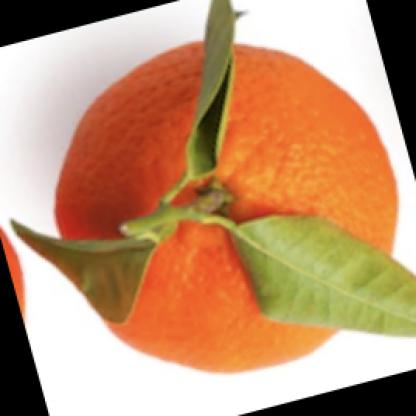orange: (48, 39, 395, 376)
